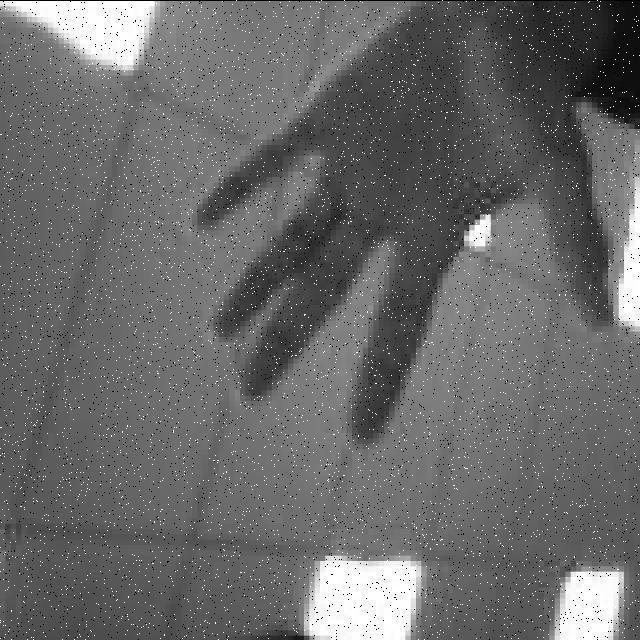hand: (176, 0, 608, 448)
